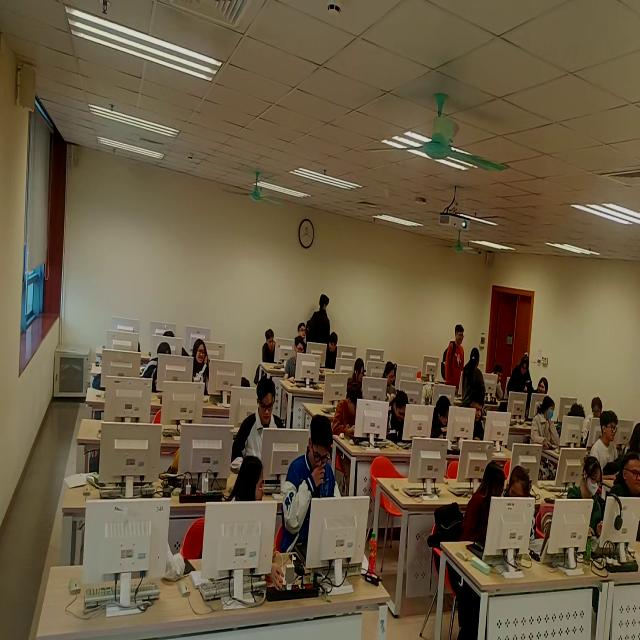raise_head: (586, 411, 626, 468), (190, 338, 217, 396), (618, 450, 640, 506), (531, 374, 552, 401), (297, 319, 310, 344)
sleep: (177, 421, 211, 486)
stand: (506, 350, 535, 425), (308, 289, 330, 371), (464, 343, 485, 428), (443, 325, 465, 401)
using_computer: (282, 413, 349, 565), (564, 455, 615, 580), (235, 385, 287, 476), (529, 394, 572, 463), (331, 386, 376, 451), (384, 389, 415, 453), (284, 336, 320, 390), (561, 401, 595, 456), (146, 339, 178, 397), (427, 394, 456, 453), (483, 355, 512, 410), (468, 389, 495, 447), (261, 326, 293, 369), (348, 356, 372, 395), (163, 329, 189, 361), (381, 363, 401, 402)
